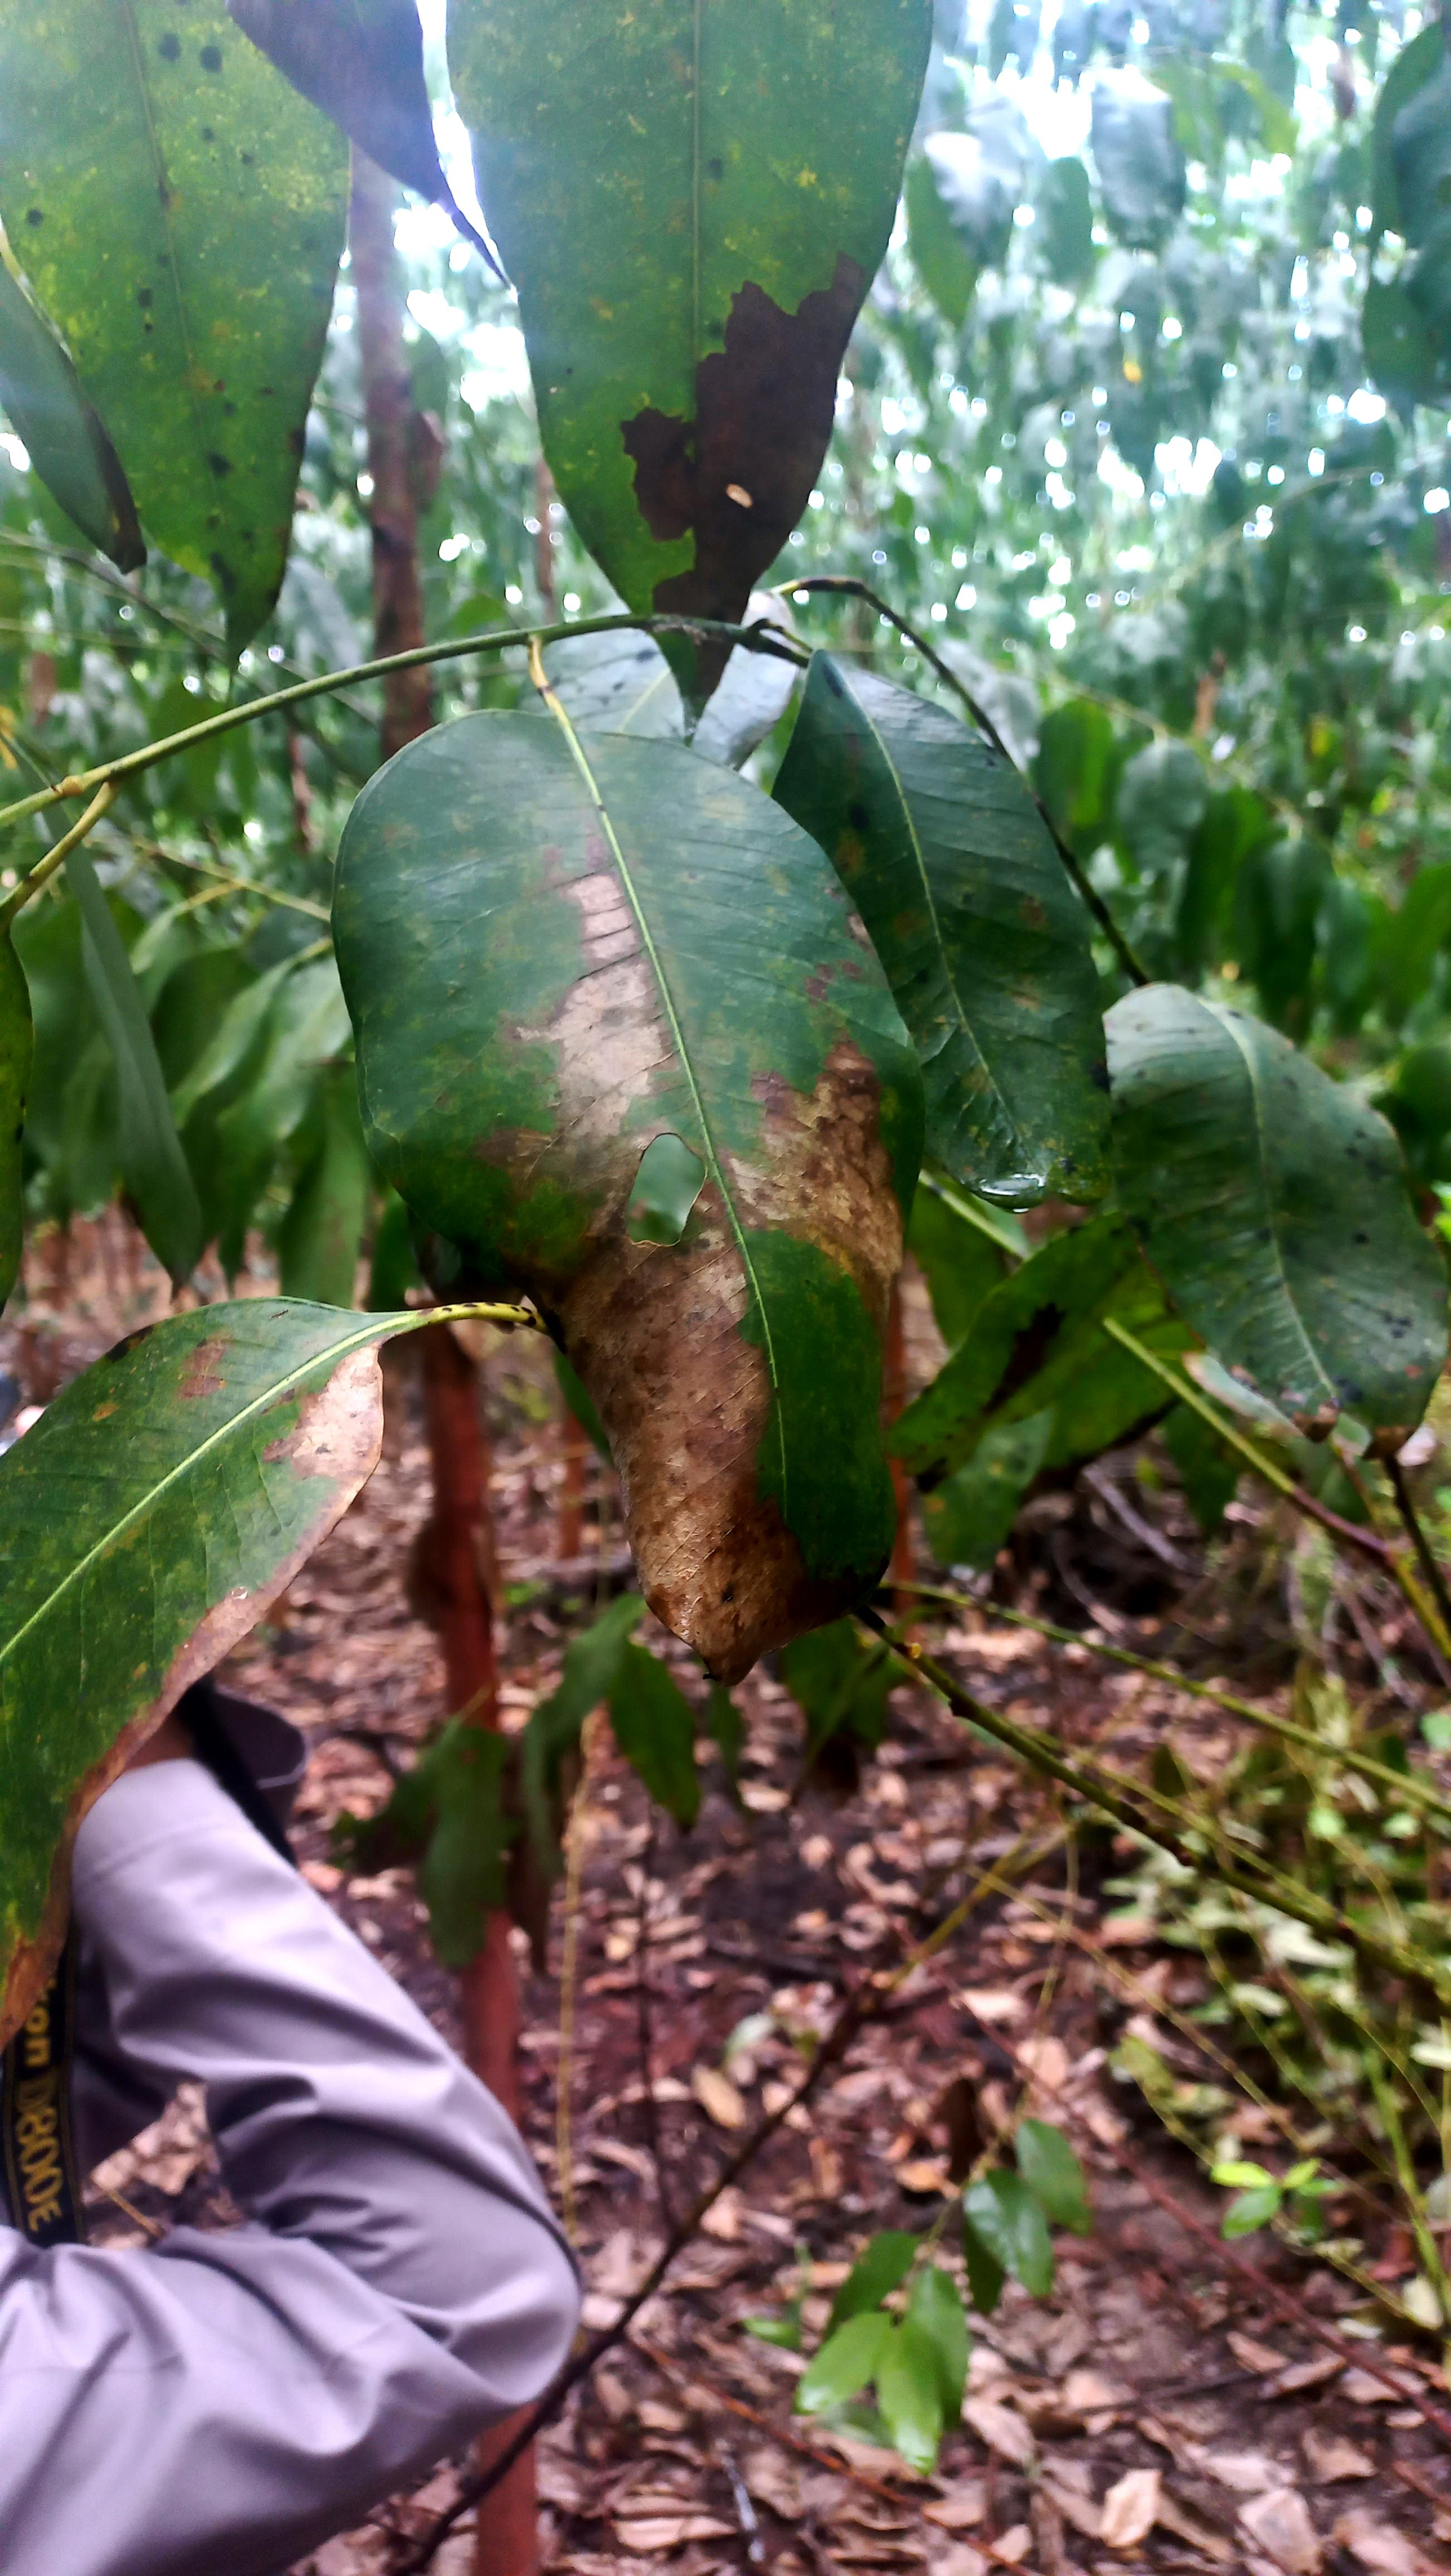Cylindrocladium: (453, 840, 773, 1675), (0, 1293, 407, 1867), (625, 241, 849, 701), (729, 1016, 933, 1415)
